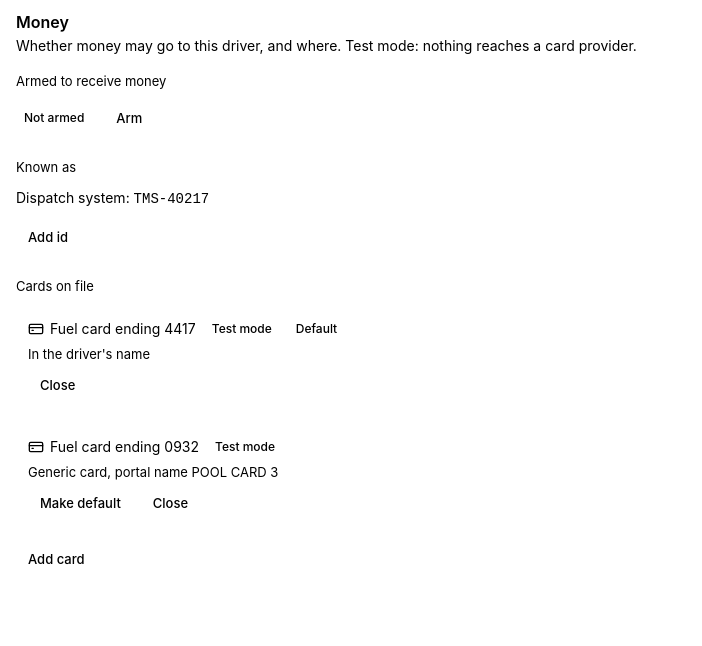
Test case: DriverMoneyPanel › arms only after the confirm sentence, then says so and lets the page read again
The image size is (702, 646).
Expected: the text "Not armed" is shown, left=24, top=110, right=84, bottom=125
Click the button "Arm".
click(129, 118)  # box left=104, top=102, right=154, bottom=134
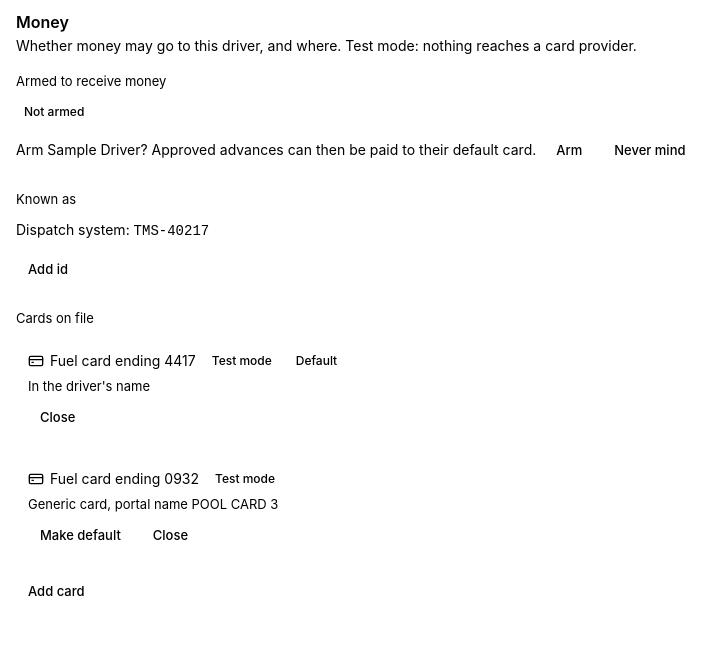
Result: the text "Arm Sample Driver? Approved advances can then be paid to their default card." is shown at left=16, top=140, right=536, bottom=160
Click the button "Arm".
click(569, 150)  # box left=544, top=134, right=594, bottom=166
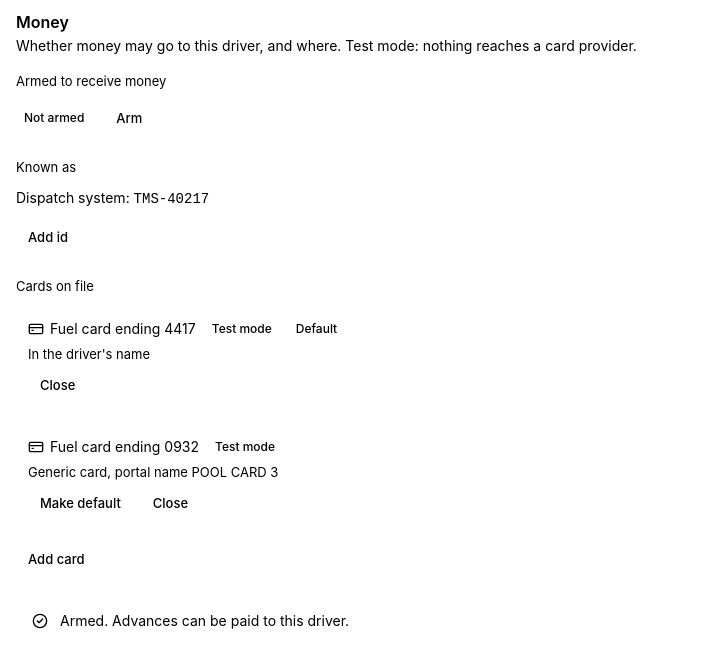
Result: the text "Armed. Advances can be paid to this driver." is shown at left=60, top=612, right=349, bottom=629
